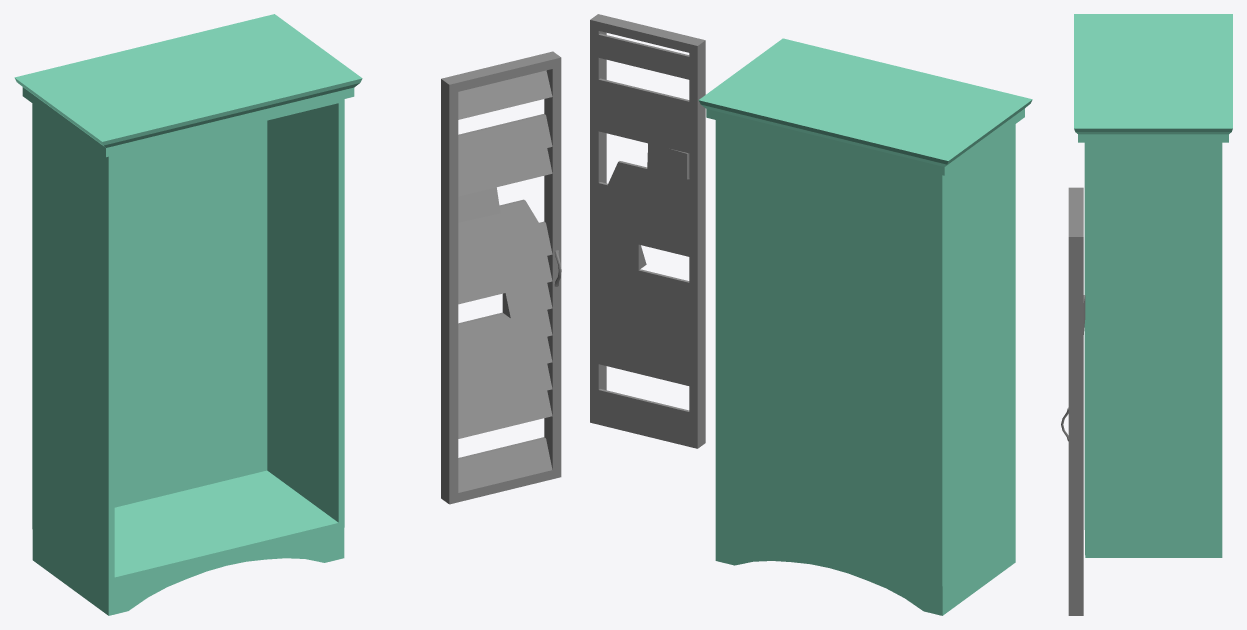
The model's file is Cabinet.FBX.
3 views of the same model, side by side, from view 1: azimuth 30°, elevation 25°; view 2: azimuth 150°, elevation 25°; view 3: azimuth 270°, elevation 25° (orthographic). The views are drawn at different scales.
Visible parts, largest first — view 1: Cabinet, Cabinet_Door_R; view 2: Cabinet, Cabinet_Door_R; view 3: Cabinet, Cabinet_Door_R.
Part boxes in pixels (x1,y1,x2,y2): Cabinet: (14, 14, 362, 615); Cabinet_Door_R: (441, 51, 561, 504); Cabinet: (698, 38, 1032, 615); Cabinet_Door_R: (590, 14, 705, 448); Cabinet: (1074, 14, 1232, 557); Cabinet_Door_R: (1061, 187, 1085, 615).
Bounding box in the file's own units: 155 × 156 × 55.95.
